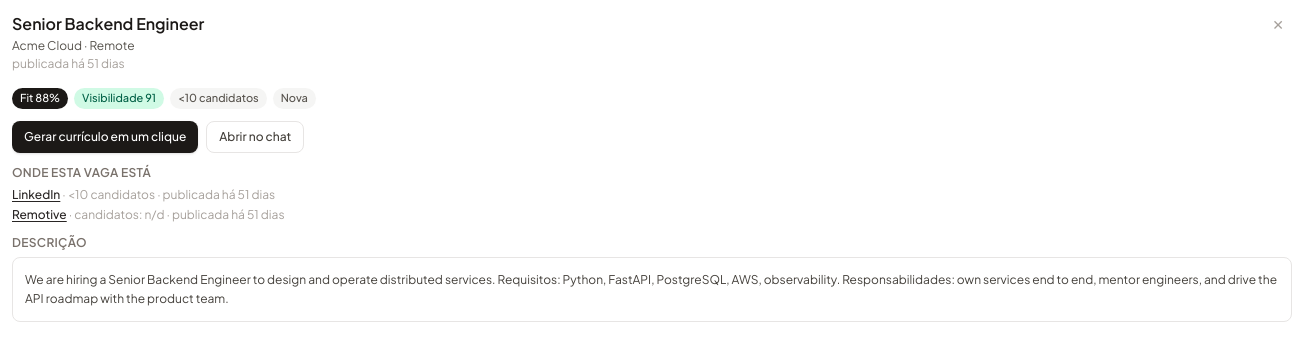
ListingDetail › stays in the Job Monitor when the session cannot be opened
Click the button "Abrir no chat": coordinates (255, 136) [206,120,304,152]
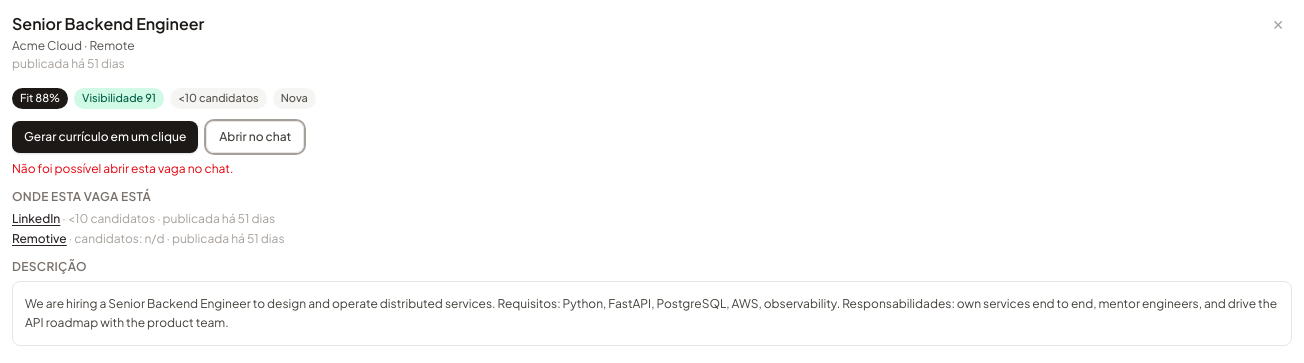
Check: the message reads "Não foi possível abrir esta vaga no chat.", box [12,160,233,176]
